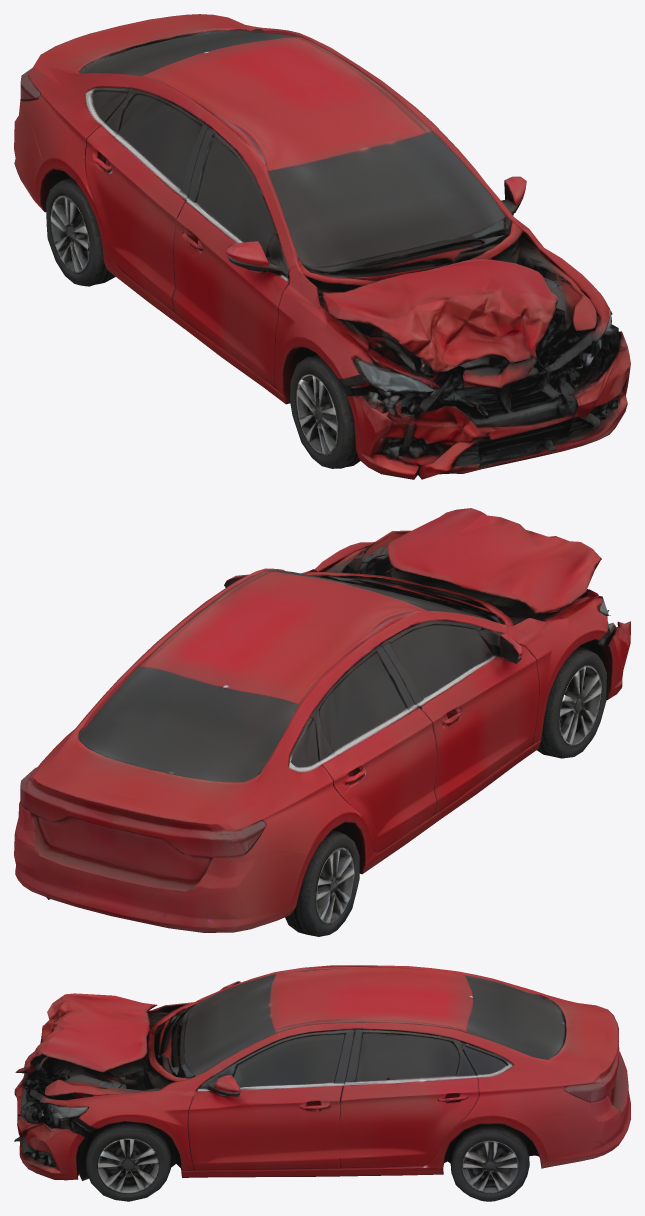
File: red_car_crashed.glb
3 renders of one model, top to bottom at view 1: azimuth 30°, elevation 25°; view 2: azimuth 150°, elevation 25°; view 3: azimuth 270°, elevation 25°, orthographic. The views are drawn at different scales.
Visible parts, largest first — view 1: model; view 2: model; view 3: model.
Boxes of the visible parts, bbox=[...] form: model: bbox=[14, 14, 630, 479]; model: bbox=[14, 508, 630, 936]; model: bbox=[14, 965, 630, 1201].
Size of the model in its own units: 0.7788 by 0.5576 by 1.9.
Materials: 1 (1 with a texture image).
